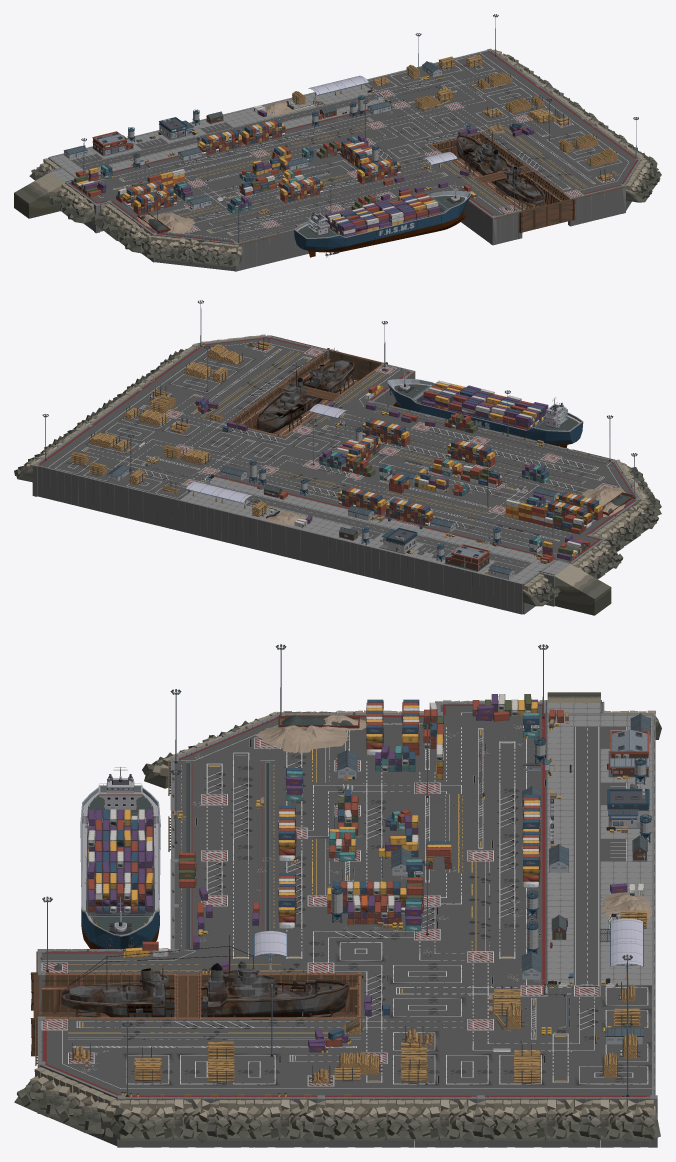
Rendered from portbase.fbx.
The picture shows the model from 3 angles, top to bottom: view 1: azimuth 30°, elevation 25°; view 2: azimuth 150°, elevation 25°; view 3: azimuth 270°, elevation 25°; orthographic projection. The views are drawn at different scales.
Parts seen in each view (by area): view 1: SM_Veh_ContainerShip_01_Scene.231, SM_Prop_Ship_Skeleton_01_Scene.062, SM_Env_BoatRamp_01__1__Scene.196, SM_Veh_ContainerShip_Containers_01_Scene.002, SM_Env_SeaWall_Blocks_01__10__Scene.117, SM_Bld_RepairShop_Large_01_Scene.213, SM_Env_SeaWall_Blocks_01__11__Scene.117, SM_Env_SeaWall_Blocks_02__7__Scene.118, SM_Veh_ContainerShip_Containers_01_Scene.001, SM_Veh_ContainerShip_Containers_01_Scene.004, SM_Env_SeaWall_Blocks_02__5__Scene.118, SM_Env_SeaWall_Blocks_01__5__Scene.117 (+14 smaller); view 2: SM_Veh_ContainerShip_01_Scene.231, SM_Prop_Ship_Skeleton_01_Scene.062, SM_Env_BoatRamp_01__1__Scene.196, SM_Veh_ContainerShip_Containers_01_Scene.002, SM_Bld_RepairShop_Large_01_Scene.213, SM_Env_SeaWall_Blocks_01__9__Scene.117, SM_Bld_RepairShop_Medium_01_Scene.200, SM_Veh_ContainerShip_Containers_01_Scene.004, SM_Veh_ContainerShip_Containers_01_Scene.001, SM_Env_SeaWall_Blocks_01__12__Scene.117, SM_Env_SeaWall_Blocks_02__5__Scene.118, SM_Env_SeaWall_Blocks_02__8__Scene.118 (+34 smaller); view 3: SM_Prop_Ship_Skeleton_01_Scene.062, SM_Veh_ContainerShip_01_Scene.231, SM_Veh_ContainerShip_Containers_01_Scene.002, SM_Env_SeaWall_Blocks_02__4__Scene.118, SM_Env_SeaWall_Blocks_01_Scene.117, SM_Env_SeaWall_Blocks_01__3__Scene.117, SM_Env_SeaWall_Blocks_01__2__Scene.117, SM_Env_SeaWall_Blocks_02__3__Scene.118, SM_Env_SeaWall_Blocks_02__1__Scene.118, SM_Env_SeaWall_Blocks_01__1__Scene.117, SM_Env_SeaWall_Blocks_01__4__Scene.117, SM_Env_SeaWall_Blocks_02__2__Scene.118 (+15 smaller).
Boxes of the visible parts, x1,y1,x2,y2 form: SM_Veh_ContainerShip_01_Scene.231: (294, 182, 470, 257); SM_Prop_Ship_Skeleton_01_Scene.062: (456, 131, 544, 204); SM_Env_BoatRamp_01__1__Scene.196: (14, 172, 64, 218); SM_Veh_ContainerShip_Containers_01_Scene.002: (325, 195, 440, 237); SM_Env_SeaWall_Blocks_01__10__Scene.117: (204, 242, 241, 267); SM_Bld_RepairShop_Large_01_Scene.213: (92, 131, 133, 156); SM_Env_SeaWall_Blocks_01__11__Scene.117: (145, 235, 180, 260); SM_Env_SeaWall_Blocks_02__7__Scene.118: (175, 238, 209, 264); SM_Veh_ContainerShip_Containers_01_Scene.001: (327, 195, 438, 234); SM_Veh_ContainerShip_Containers_01_Scene.004: (326, 192, 440, 234); SM_Env_SeaWall_Blocks_02__5__Scene.118: (62, 194, 94, 223); SM_Env_SeaWall_Blocks_01__5__Scene.117: (625, 173, 653, 202); SM_Veh_ContainerShip_01_Scene.231: (387, 369, 583, 448); SM_Prop_Ship_Skeleton_01_Scene.062: (256, 348, 354, 433); SM_Env_BoatRamp_01__1__Scene.196: (555, 564, 611, 615); SM_Veh_ContainerShip_Containers_01_Scene.002: (421, 385, 548, 427); SM_Bld_RepairShop_Large_01_Scene.213: (444, 544, 489, 571); SM_Env_SeaWall_Blocks_01__9__Scene.117: (522, 574, 560, 606); SM_Bld_RepairShop_Medium_01_Scene.200: (379, 528, 417, 553); SM_Veh_ContainerShip_Containers_01_Scene.004: (423, 385, 532, 429); SM_Veh_ContainerShip_Containers_01_Scene.001: (428, 380, 548, 427); SM_Env_SeaWall_Blocks_01__12__Scene.117: (607, 513, 642, 545); SM_Env_SeaWall_Blocks_02__5__Scene.118: (588, 541, 623, 573); SM_Env_SeaWall_Blocks_02__8__Scene.118: (623, 501, 658, 533); SM_Prop_Ship_Skeleton_01_Scene.062: (61, 934, 349, 1017); SM_Veh_ContainerShip_01_Scene.231: (80, 767, 160, 949); SM_Veh_ContainerShip_Containers_01_Scene.002: (87, 809, 153, 912); SM_Env_SeaWall_Blocks_02__4__Scene.118: (598, 1099, 660, 1143); SM_Env_SeaWall_Blocks_01_Scene.117: (115, 1099, 175, 1140); SM_Env_SeaWall_Blocks_01__3__Scene.117: (385, 1099, 441, 1140); SM_Env_SeaWall_Blocks_01__2__Scene.117: (332, 1099, 388, 1140); SM_Env_SeaWall_Blocks_02__3__Scene.118: (545, 1099, 601, 1143); SM_Env_SeaWall_Blocks_02__1__Scene.118: (279, 1099, 335, 1143); SM_Env_SeaWall_Blocks_01__1__Scene.117: (225, 1099, 282, 1140); SM_Env_SeaWall_Blocks_01__4__Scene.117: (492, 1099, 548, 1140); SM_Env_SeaWall_Blocks_02__2__Scene.118: (438, 1099, 495, 1143).
Size of what is drawn, in the model's own units: 39608 by 5011 by 24346.
23 materials, 23 textured.
